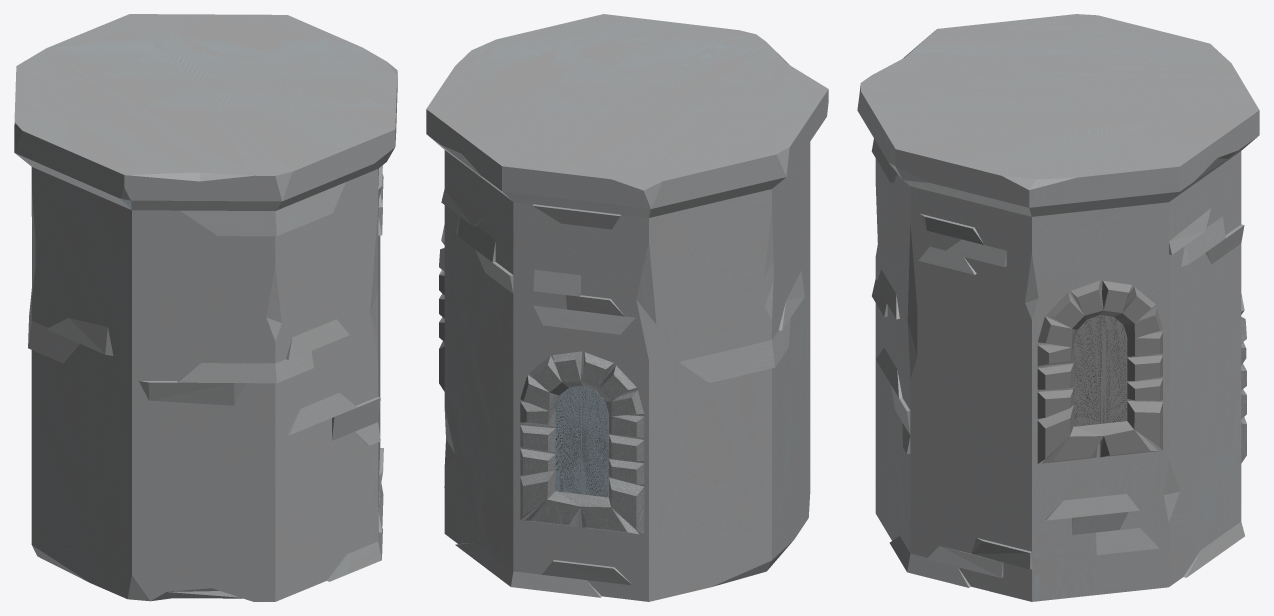
Rendered from Tower7.fbx.
3 views of the same model, side by side, from view 1: azimuth 30°, elevation 25°; view 2: azimuth 150°, elevation 25°; view 3: azimuth 270°, elevation 25° (orthographic).
Parts seen in each view (by area): view 1: Group2; view 2: Group2, Group3, Group4; view 3: Group2, Group4, Group3.
Boxes of the visible parts, <box> form: Group2: <box>14,14,397,601</box>; Group2: <box>426,14,828,601</box>; Group3: <box>520,351,644,534</box>; Group4: <box>439,225,444,391</box>; Group2: <box>857,14,1259,601</box>; Group4: <box>1037,280,1162,463</box>; Group3: <box>1241,293,1246,463</box>.
Size of the model in its own units: 2177 by 2550 by 2177.
